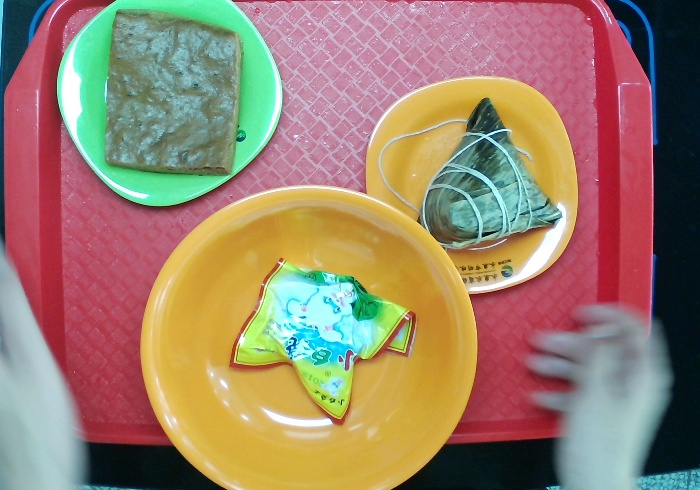YKMZ-Ju_Se_Fang_Die: (364, 74, 579, 295)
YKMZ-Ju_Se_Tang_Wan: (139, 185, 475, 490)
YKMZ-Lv_Se_Fang_Die: (55, 1, 285, 207)
